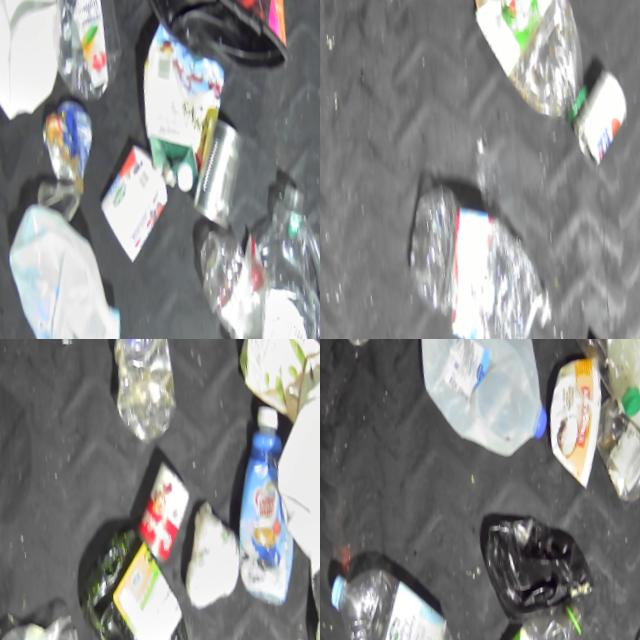can: (123, 444, 208, 564), (563, 54, 640, 169)
milk_jug: (0, 190, 148, 339), (405, 339, 568, 463), (0, 0, 78, 129)
non_white_jug: (215, 385, 320, 607), (71, 521, 224, 640)
plastic_bottle: (399, 169, 574, 339), (457, 0, 603, 129), (220, 167, 320, 339), (325, 551, 476, 640), (48, 0, 132, 106), (548, 339, 640, 431), (466, 601, 611, 640)
